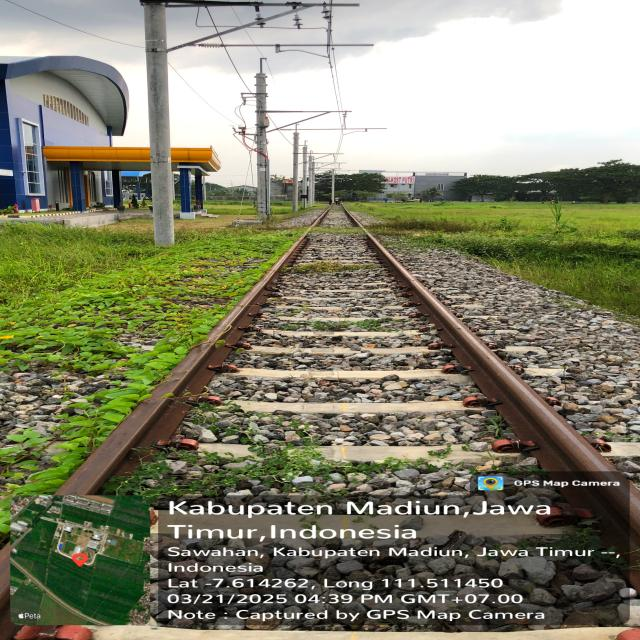rail-detection: (367, 235, 640, 594), (153, 236, 306, 400), (127, 399, 182, 440)
